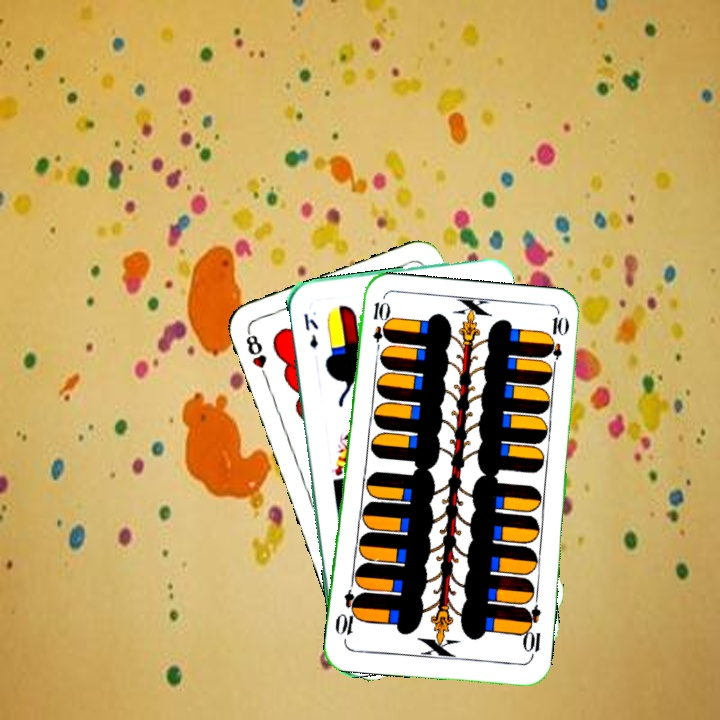E10: (518, 602, 544, 661), (369, 297, 389, 357)
EK: (299, 310, 321, 351)
H8: (242, 327, 271, 384)
